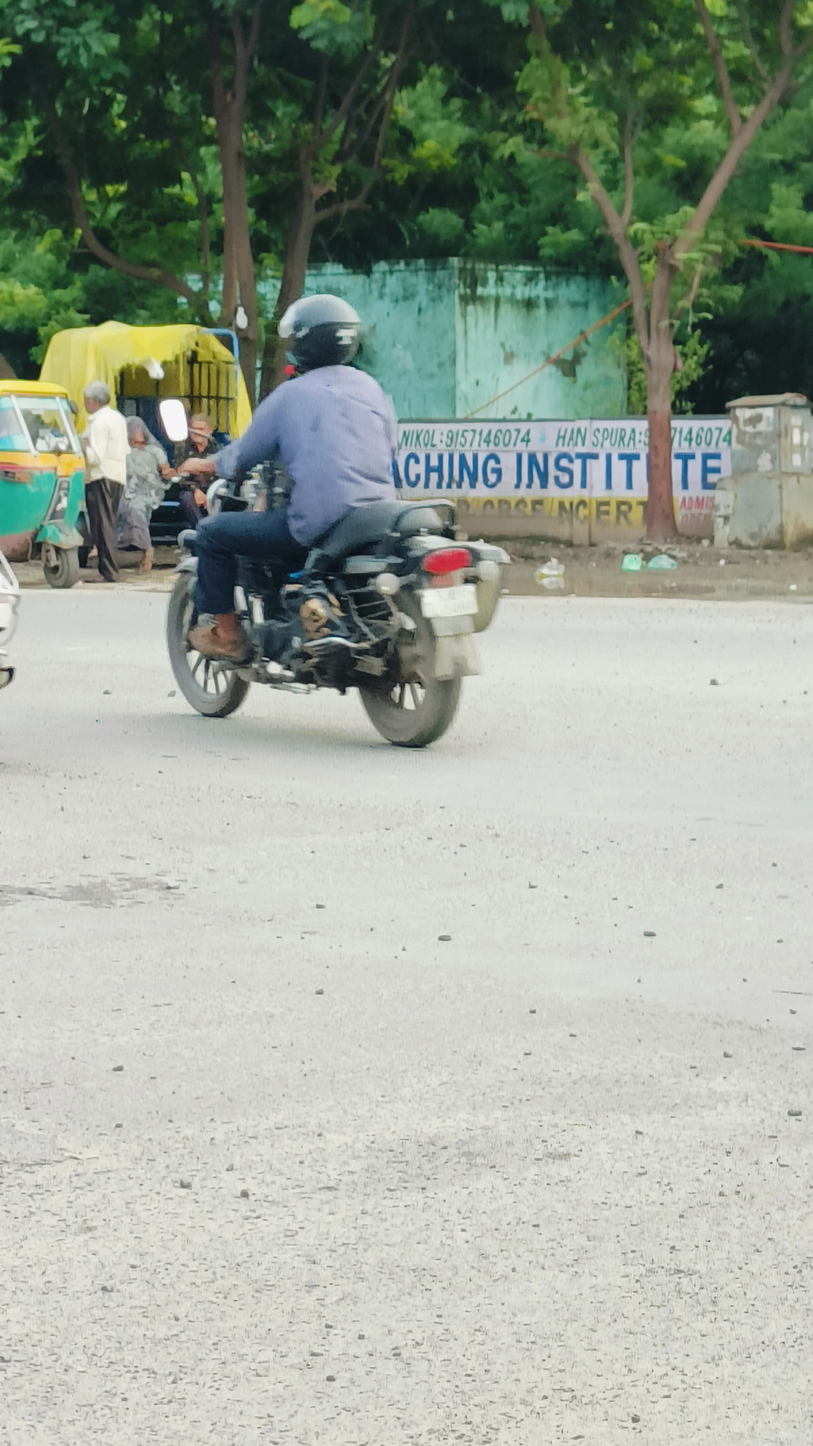BikeWithRider: (147, 282, 519, 760)
Helmet: (266, 285, 373, 382)
